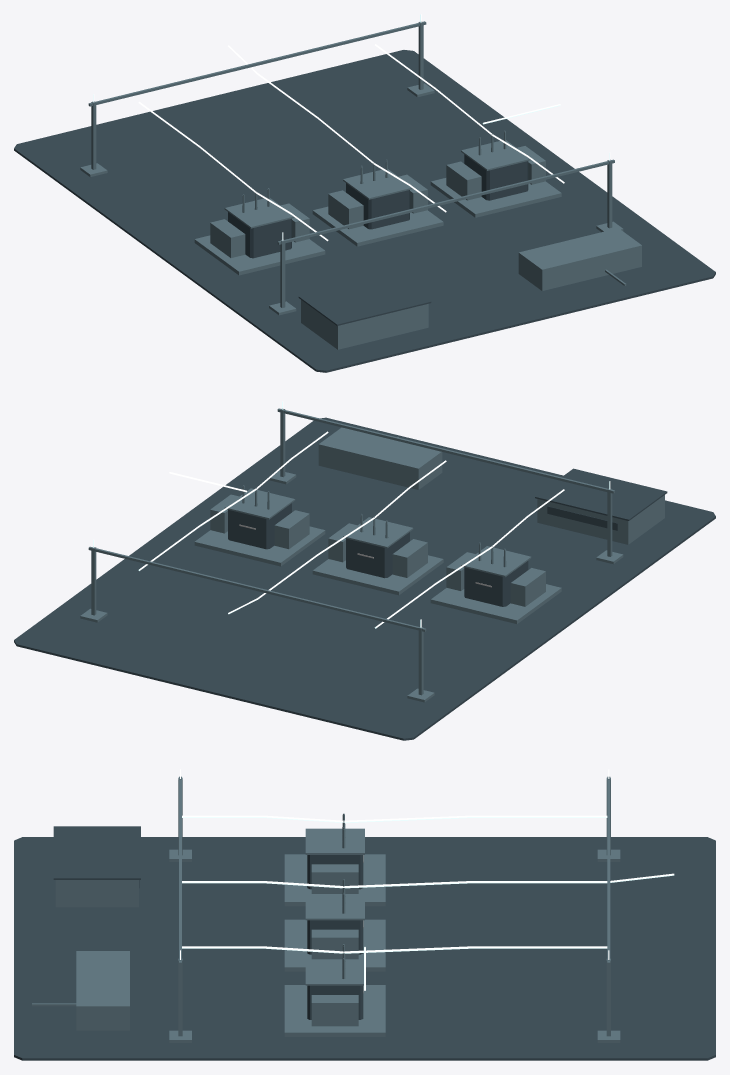
File: substation_transformer_yard.lod2.glb
3 renders of one model, top to bottom at view 1: azimuth 30°, elevation 25°; view 2: azimuth 150°, elevation 25°; view 3: azimuth 270°, elevation 25°, orthographic. The views are drawn at different scales.
Parts seen in each view (by area): view 1: substation_transformer_yard_graphite.002, substation_transformer_yard_graphite_light.002, substation_transformer_yard_white.002; view 2: substation_transformer_yard_graphite.002, substation_transformer_yard_graphite_light.002, substation_transformer_yard_white.002; view 3: substation_transformer_yard_graphite.002, substation_transformer_yard_graphite_light.002, substation_transformer_yard_white.002.
Part boxes in pixels (left/top/right/bottom): substation_transformer_yard_graphite.002: left=14, top=50, right=715, bottom=372; substation_transformer_yard_graphite_light.002: left=80, top=21, right=641, bottom=349; substation_transformer_yard_white.002: left=93, top=14, right=610, bottom=241; substation_transformer_yard_graphite.002: left=14, top=417, right=715, bottom=740; substation_transformer_yard_graphite_light.002: left=80, top=408, right=664, bottom=702; substation_transformer_yard_white.002: left=93, top=401, right=610, bottom=628; substation_transformer_yard_graphite.002: left=14, top=826, right=715, bottom=1060; substation_transformer_yard_graphite_light.002: left=32, top=776, right=620, bottom=1042; substation_transformer_yard_white.002: left=180, top=769, right=674, bottom=990.
Size of the model in its own units: 88 by 16.7 by 118.
